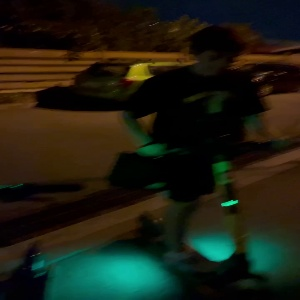human on a scooter: (105, 23, 293, 300)
